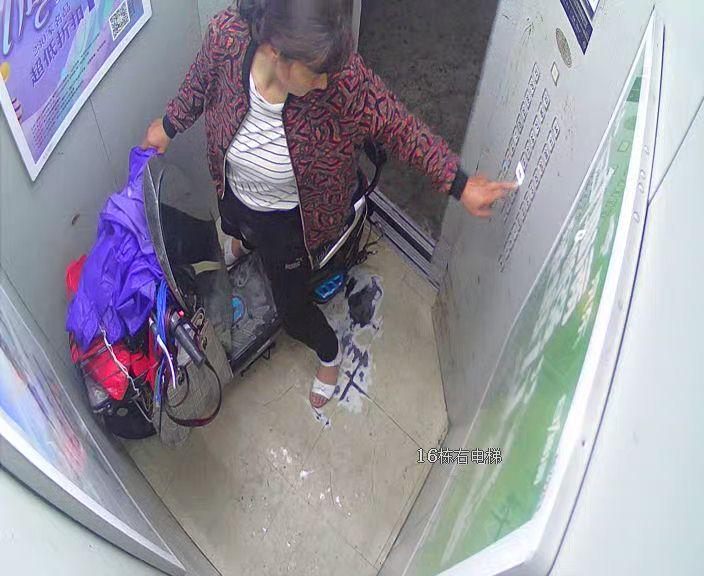Electric-bicycle: (69, 150, 385, 426)
